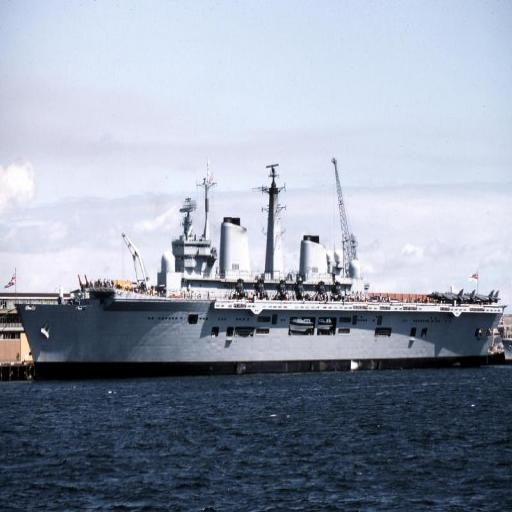Portanaves: (13, 153, 509, 389)
